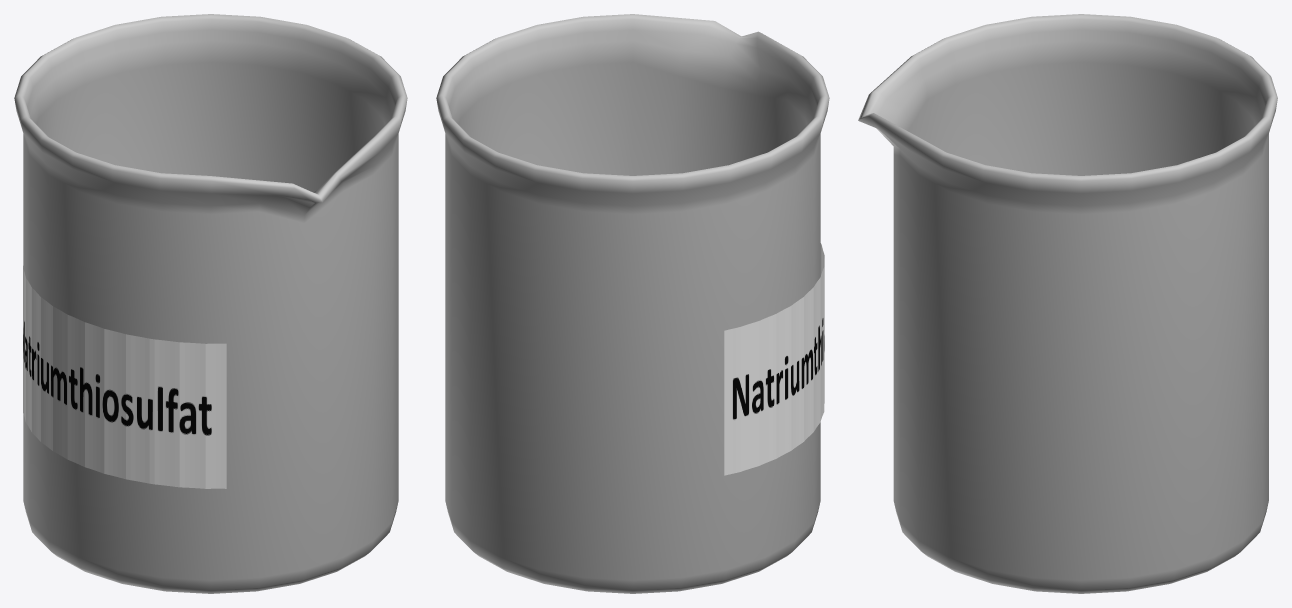
The model's file is Natriumthiosulfat_Becherglas.fbx.
3 renders of one model, left to right at view 1: azimuth 30°, elevation 25°; view 2: azimuth 150°, elevation 25°; view 3: azimuth 270°, elevation 25°, orthographic.
Parts seen in each view (by area): view 1: Bildschirmfoto.001; view 2: Bildschirmfoto.001; view 3: Bildschirmfoto.001.
Part boxes in pixels (bbox=[...]): Bildschirmfoto.001: bbox=[14, 14, 407, 593]; Bildschirmfoto.001: bbox=[436, 14, 829, 593]; Bildschirmfoto.001: bbox=[858, 14, 1277, 593].
Bounding box in the file's own units: 8.36 × 10 × 8.93.
